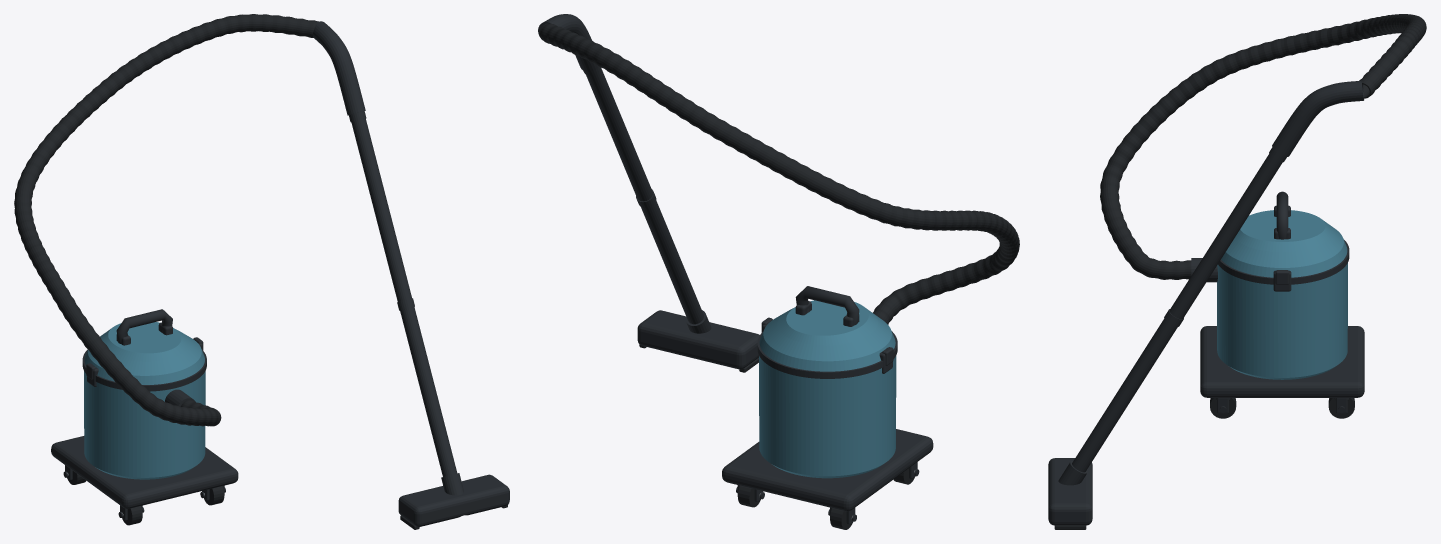
Rendered from A-NEW-20261026-WET-DRY-VACUUM-001_LOD0_R1.glb.
The picture shows the model from 3 angles, left to right: view 1: azimuth 30°, elevation 25°; view 2: azimuth 150°, elevation 25°; view 3: azimuth 270°, elevation 25°; orthographic projection. The views are drawn at different scales.
Visible parts, largest first — view 1: continuous corrugated hollow hose, closed wall drum, wide caster base, sculpted motor cover, wide floor nozzle shell, hollow wand section 2, hollow wand section 1, curved hollow suction handgrip, arched carry handle, black lid seam; view 2: continuous corrugated hollow hose, closed wall drum, sculpted motor cover, wide caster base, wide floor nozzle shell, hollow wand section 2, hollow wand section 1, black lid seam, arched carry handle, curved hollow suction handgrip; view 3: closed wall drum, continuous corrugated hollow hose, sculpted motor cover, wide caster base, hollow wand section 2, hollow wand section 1, wide floor nozzle shell, curved hollow suction handgrip, black lid seam, arched carry handle.
Boxes of the visible parts, x1,y1,x2,y2 form: continuous corrugated hollow hose: [14, 14, 318, 426]; closed wall drum: [84, 371, 205, 479]; wide caster base: [51, 436, 238, 508]; sculpted motor cover: [84, 322, 204, 384]; wide floor nozzle shell: [398, 474, 509, 526]; hollow wand section 2: [351, 118, 410, 301]; hollow wand section 1: [398, 294, 457, 476]; curved hollow suction handgrip: [313, 21, 365, 115]; arched carry handle: [116, 309, 172, 343]; black lid seam: [82, 349, 206, 391]; continuous corrugated hollow hose: [539, 23, 1019, 324]; closed wall drum: [759, 356, 896, 478]; sculpted motor cover: [759, 300, 895, 371]; wide caster base: [722, 429, 933, 511]; wide floor nozzle shell: [637, 310, 759, 369]; hollow wand section 2: [586, 68, 651, 201]; hollow wand section 1: [641, 190, 703, 324]; black lid seam: [757, 331, 897, 378]; arched carry handle: [795, 286, 859, 325]; curved hollow suction handgrip: [538, 14, 598, 71]; closed wall drum: [1217, 263, 1347, 379]; continuous corrugated hollow hose: [1100, 14, 1426, 279]; sculpted motor cover: [1221, 210, 1347, 277]; wide caster base: [1200, 326, 1364, 397]; hollow wand section 2: [1171, 154, 1282, 319]; hollow wand section 1: [1072, 307, 1182, 472]; wide floor nozzle shell: [1048, 458, 1092, 525]; curved hollow suction handgrip: [1272, 80, 1364, 156]; black lid seam: [1218, 240, 1349, 284]; arched carry handle: [1276, 191, 1288, 239].
Size of the model in its own units: 1.11 by 1.13 by 0.892.
